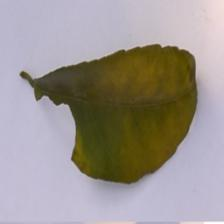black spot: (15, 42, 101, 112)
